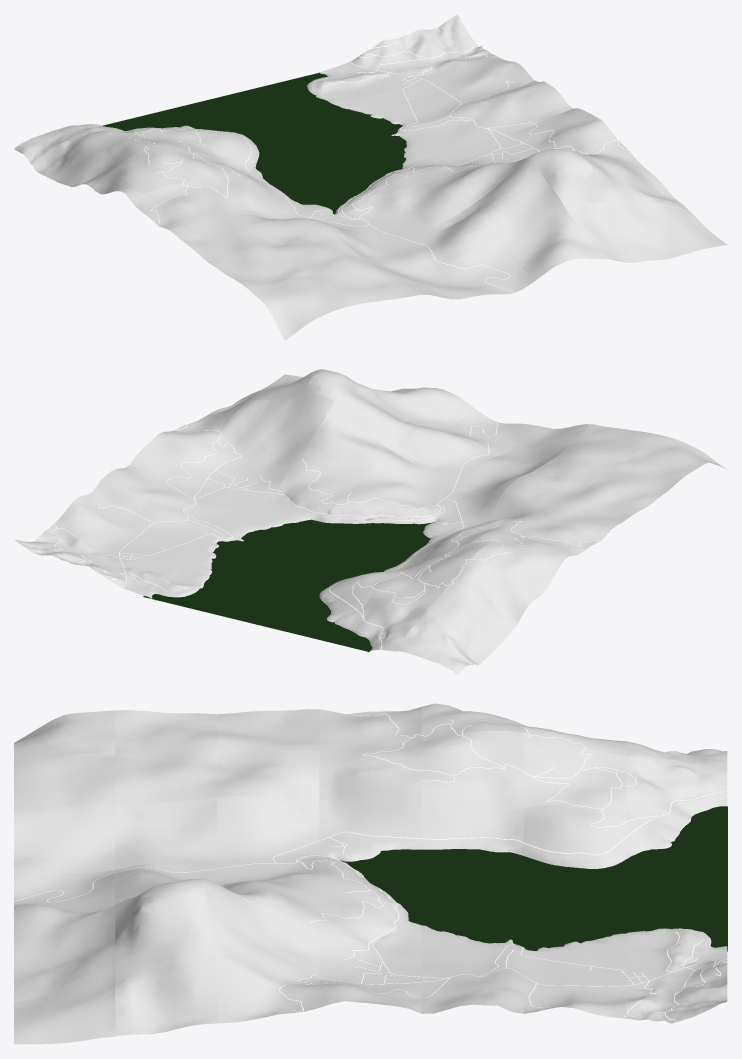
Rendered from Msh_Terrain.glb.
3 views of the same model, one above another, from view 1: azimuth 30°, elevation 25°; view 2: azimuth 150°, elevation 25°; view 3: azimuth 270°, elevation 25° (orthographic). The views are drawn at different scales.
Visible parts, largest first — view 1: Msh_Water, Msh_Sec6_Bloque31, Msh_Sec6_Bloque39, Msh_Sec6_Bloque32, Msh_Sec6_Bloque38, Msh_Sec6_Bloque40, Msh_Sec6_Bloque23, Msh_Sec6_Bloque7, Msh_Sec6_Bloque46, Msh_Sec6_Bloque25, Msh_Sec6_Bloque33, Msh_Sec6_Bloque24 (+33 smaller); view 2: Msh_Water, Msh_Sec6_Bloque2, Msh_Sec6_Bloque37, Msh_Sec6_Bloque30, Msh_Sec6_Bloque1, Msh_Sec6_Bloque43, Msh_Sec6_Bloque3, Msh_Sec6_Bloque29, Msh_Sec6_Bloque41, Msh_Sec6_Bloque24, Msh_Sec6_Bloque36, Msh_Sec6_Bloque31 (+32 smaller); view 3: Msh_Water, Msh_Sec6_Bloque45, Msh_Sec6_Bloque10, Msh_Sec6_Bloque11, Msh_Sec6_Bloque21, Msh_Sec6_Bloque20, Msh_Sec6_Bloque19, Msh_Sec6_Bloque9, Msh_Sec6_Bloque16, Msh_Sec6_Bloque39, Msh_Sec6_Bloque38, Msh_Sec6_Bloque46 (+35 smaller).
Boxes of the visible parts, <box> form: Msh_Water: <box>102,72,406,214</box>; Msh_Sec6_Bloque31: <box>461,159,562,244</box>; Msh_Sec6_Bloque39: <box>563,200,664,262</box>; Msh_Sec6_Bloque32: <box>499,204,600,278</box>; Msh_Sec6_Bloque38: <box>524,149,625,203</box>; Msh_Sec6_Bloque40: <box>394,14,495,79</box>; Msh_Sec6_Bloque23: <box>359,184,460,239</box>; Msh_Sec6_Bloque7: <box>247,275,347,340</box>; Msh_Sec6_Bloque46: <box>627,201,727,259</box>; Msh_Sec6_Bloque25: <box>436,244,537,296</box>; Msh_Sec6_Bloque33: <box>331,39,431,96</box>; Msh_Sec6_Bloque24: <box>398,212,499,269</box>; Msh_Water: <box>143,519,435,651</box>; Msh_Sec6_Bloque2: <box>433,557,533,648</box>; Msh_Sec6_Bloque37: <box>232,394,333,466</box>; Msh_Sec6_Bloque30: <box>296,401,396,483</box>; Msh_Sec6_Bloque1: <box>394,604,495,674</box>; Msh_Sec6_Bloque43: <box>130,431,231,489</box>; Msh_Sec6_Bloque3: <box>472,536,572,599</box>; Msh_Sec6_Bloque29: <box>257,465,358,522</box>; Msh_Sec6_Bloque41: <box>53,493,153,549</box>; Msh_Sec6_Bloque24: <box>398,428,499,481</box>; Msh_Sec6_Bloque36: <box>193,456,294,508</box>; Msh_Sec6_Bloque31: <box>334,388,430,454</box>; Msh_Water: <box>340,806,727,951</box>; Msh_Sec6_Bloque45: <box>115,936,217,1036</box>; Msh_Sec6_Bloque10: <box>421,730,523,811</box>; Msh_Sec6_Bloque11: <box>319,741,421,821</box>; Msh_Sec6_Bloque21: <box>14,803,115,872</box>; Msh_Sec6_Bloque20: <box>115,797,217,869</box>; Msh_Sec6_Bloque19: <box>217,796,319,867</box>; Msh_Sec6_Bloque9: <box>523,733,625,810</box>; Msh_Sec6_Bloque16: <box>523,803,625,868</box>; Msh_Sec6_Bloque39: <box>14,905,115,1002</box>; Msh_Sec6_Bloque38: <box>115,878,217,962</box>; Msh_Sec6_Bloque46: <box>14,963,115,1044</box>.
Bounding box in the file's own units: 3519 × 541 × 3727.
